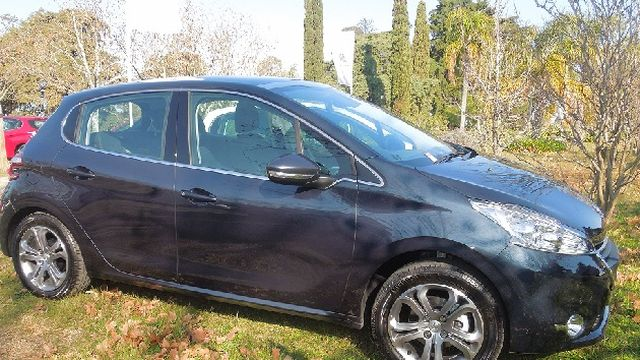car: (2, 75, 619, 360)
